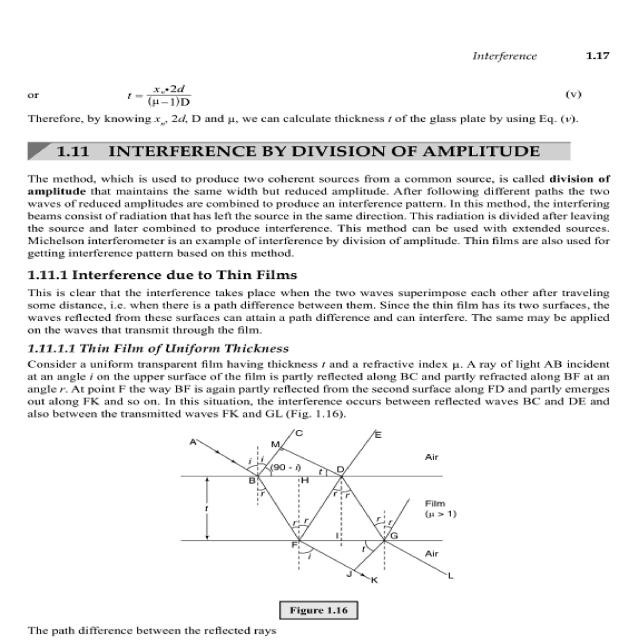diagram: (131, 428, 582, 627)
